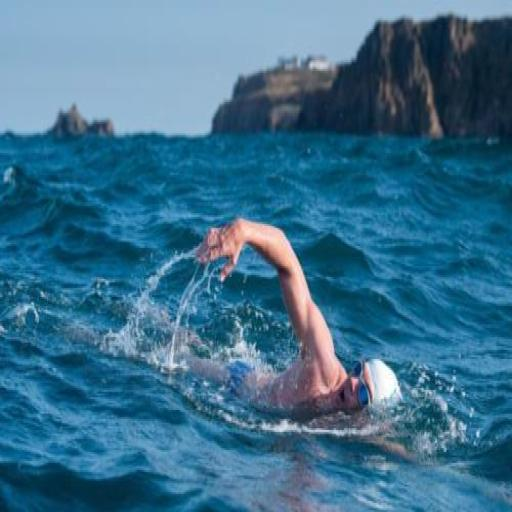swimming: (169, 214, 404, 426)
